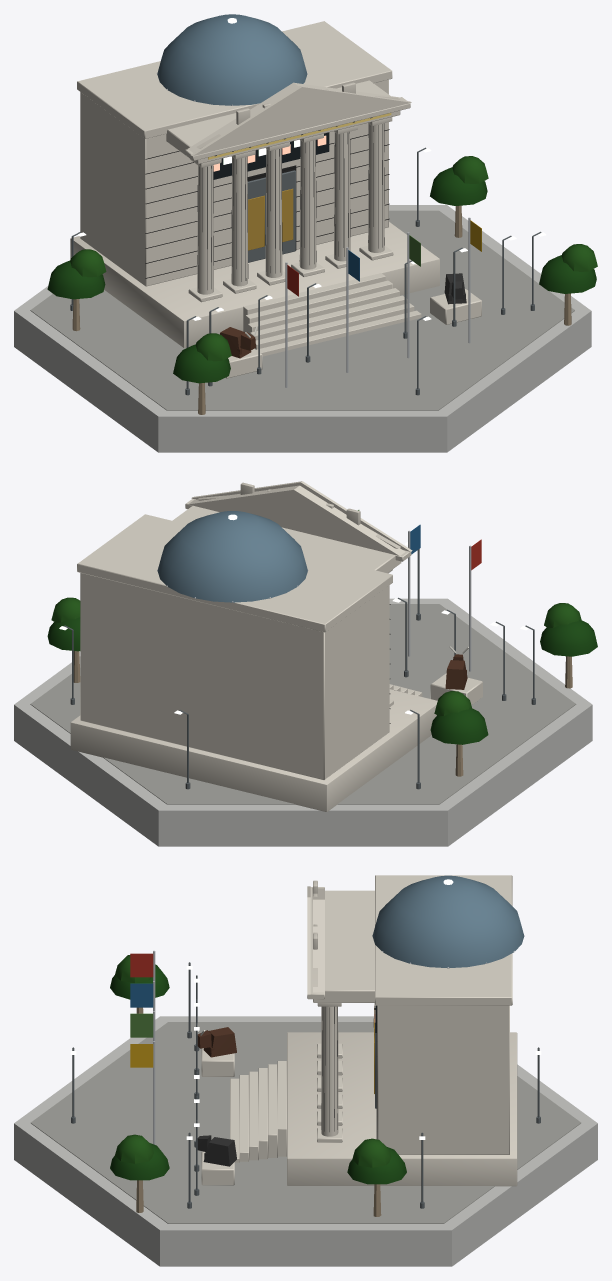
Rendered from stockExchange.glb.
3 views of the same model, one above another, from view 1: azimuth 30°, elevation 25°; view 2: azimuth 150°, elevation 25°; view 3: azimuth 270°, elevation 25° (orthographic).
Visible parts, largest first — view 1: stone, pavers, wall_concrete, glass, leaf, dark, paint, steel_dark, gold, metal, wood; view 2: stone, wall_concrete, pavers, glass, leaf, steel_dark, paint, metal, wood; view 3: stone, pavers, wall_concrete, glass, leaf, paint, steel_dark, dark, metal, wood.
Part boxes in pixels (<box>): stone: <box>70,21,481,378</box>; pavers: <box>30,210,574,410</box>; wall_concrete: <box>14,205,591,452</box>; glass: <box>157,14,307,105</box>; leaf: <box>47,156,597,383</box>; dark: <box>145,117,389,289</box>; paint: <box>213,132,481,358</box>; steel_dark: <box>70,147,541,395</box>; gold: <box>208,113,391,250</box>; metal: <box>156,73,470,387</box>; wood: <box>72,205,571,414</box>; stone: <box>70,481,482,811</box>; wall_concrete: <box>14,598,592,846</box>; pavers: <box>30,604,576,804</box>; glass: <box>157,511,307,602</box>; leaf: <box>47,597,597,744</box>; steel_dark: <box>64,549,535,789</box>; paint: <box>358,510,481,689</box>; metal: <box>157,530,471,671</box>; wood: <box>73,651,572,776</box>; stone: <box>201,875,517,1186</box>; pavers: <box>31,1022,580,1223</box>; wall_concrete: <box>14,1016,597,1266</box>; glass: <box>372,875,524,968</box>; leaf: <box>110,955,406,1184</box>; paint: <box>130,953,376,1166</box>; steel_dark: <box>71,962,540,1208</box>; dark: <box>321,1006,377,1138</box>; metal: <box>153,935,524,1144</box>; wood: <box>136,1003,381,1216</box>.
Size of the model in its own units: 21.31 by 12.95 by 24.6.
